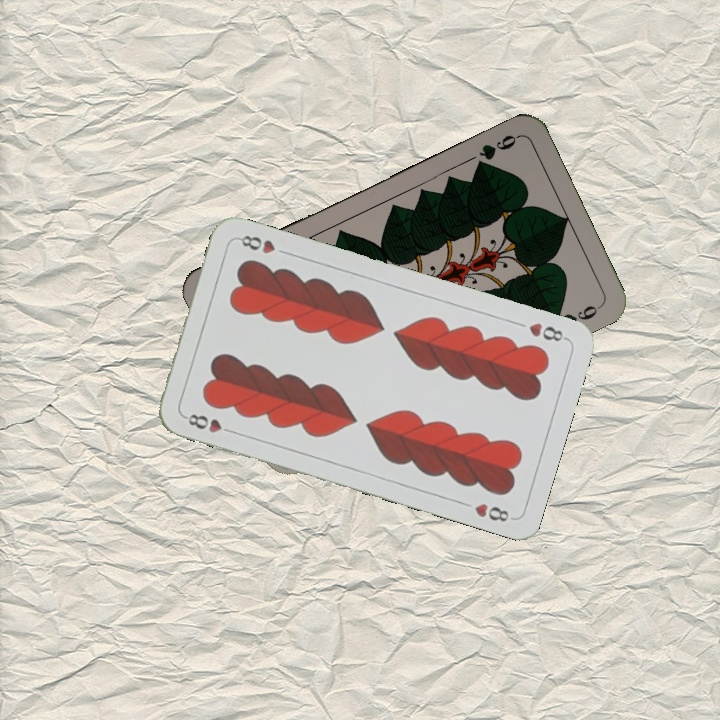G9: (471, 131, 522, 172)
H8: (180, 410, 238, 437), (525, 318, 570, 345)
